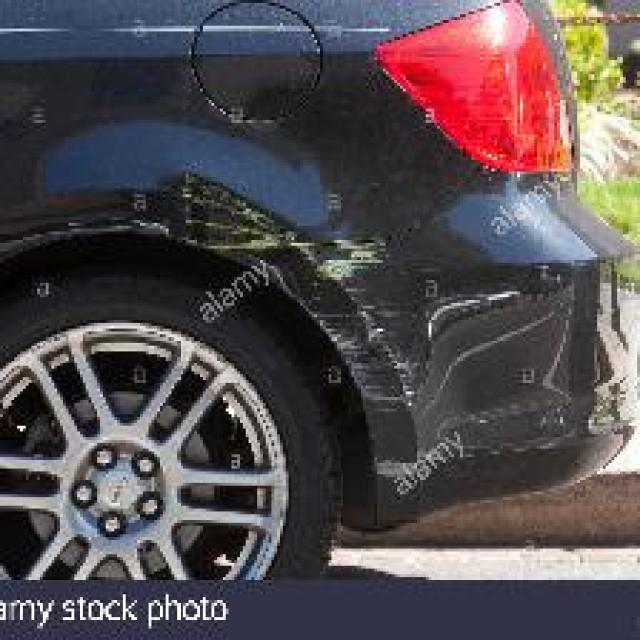bumper_scratch_moderate: (217, 223, 597, 494)
